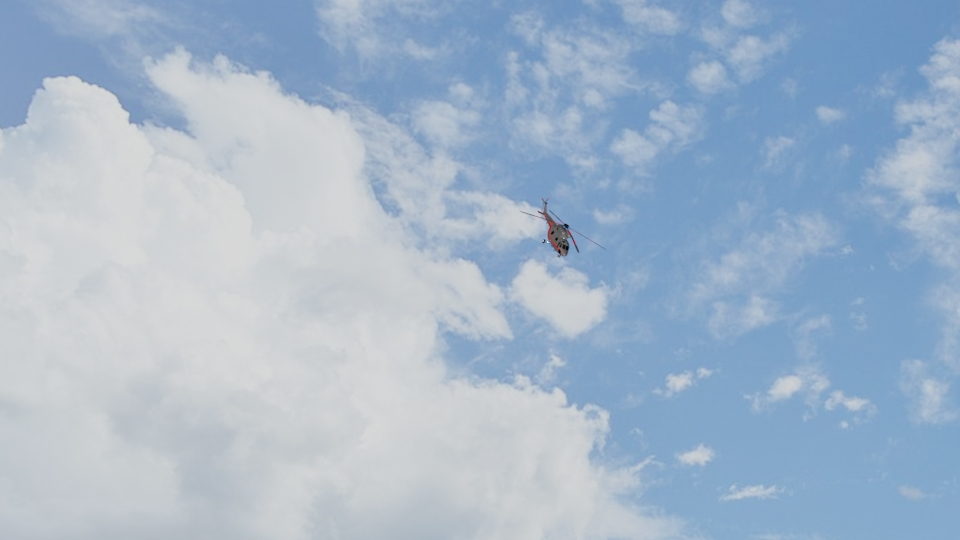heli: (535, 197, 583, 261)
